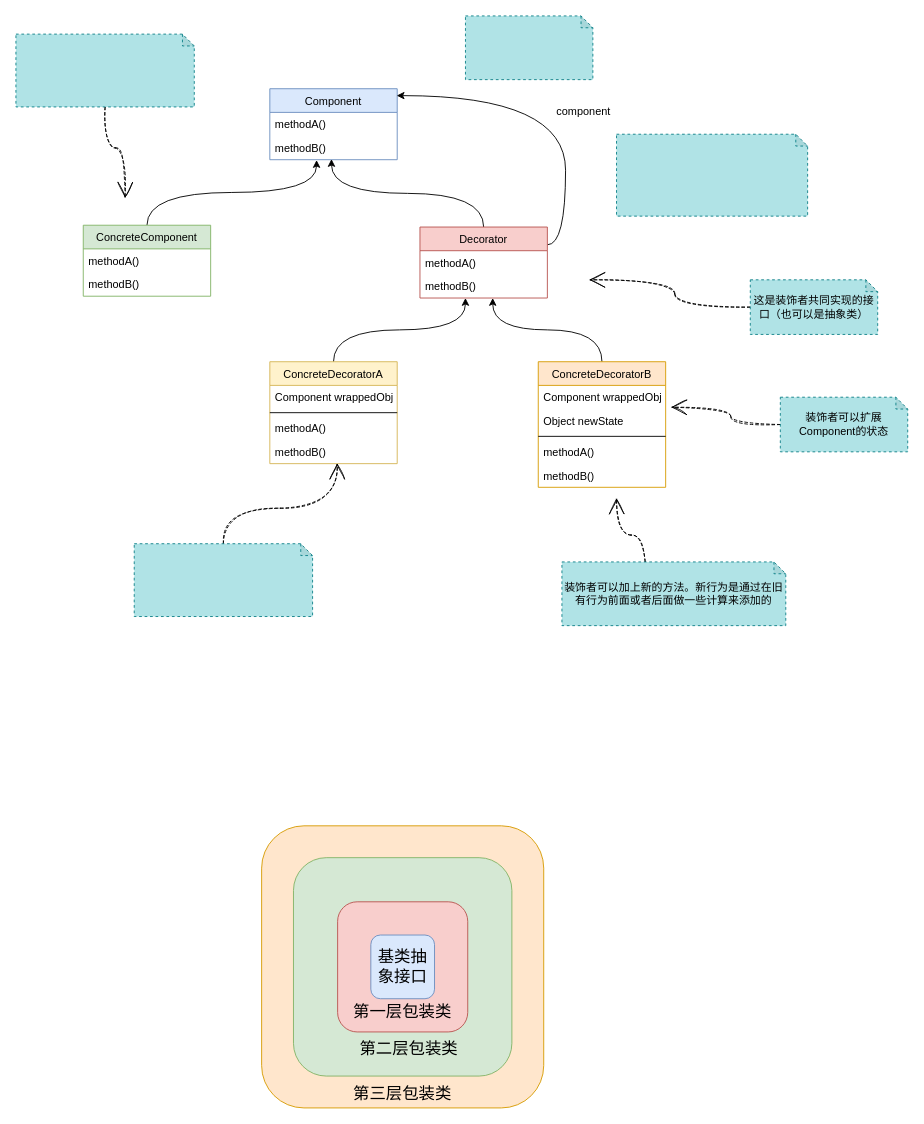
Some shapes in this 924 by 1124 pixel diagram are drawn without their labels. The shapes that lost their labels are listed below. From the top down, each one's centre as x and y in pixels, then its label:
At point 529,47: "每个组件都可以单独使用，或者被装饰者包起来使用".
At point 104,70: "ConcreteConmponent是将我们要动态地加上的新行为的对象，它扩展自己的Component".
At point 712,174: "每个装饰者都有”有一个“（包装一个）组件，也就是说，装饰者有一个实例变量以保存某个Component的引用".
At point 223,580: "ConcreteDecorator有一个实例变量，可以记录所装饰的事物（装饰者包着的Component）".
